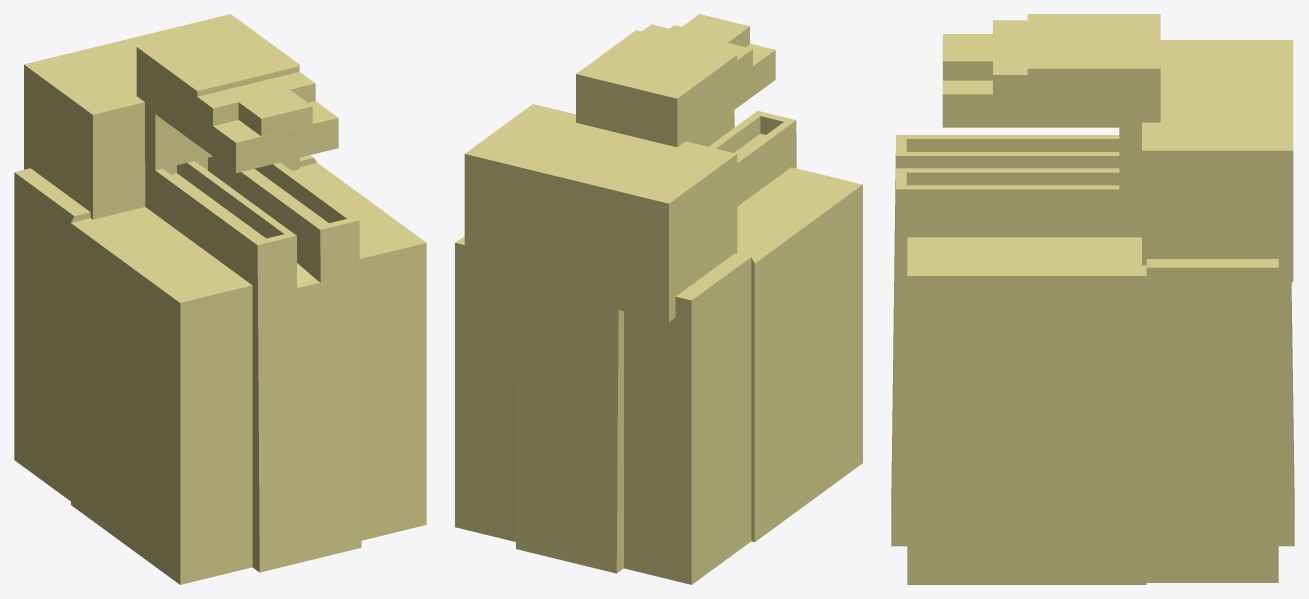
Rendered from structure1.obj.
The picture shows the model from 3 angles, left to right: view 1: azimuth 30°, elevation 25°; view 2: azimuth 150°, elevation 25°; view 3: azimuth 270°, elevation 25°; orthographic projection. The views are drawn at different scales.
Parts seen in each view (by area): view 1: structure; view 2: structure; view 3: structure.
Part boxes in pixels (x1,y1,x2,y2): structure: (14,14,426,584); structure: (455,14,862,584); structure: (891,14,1294,584).
Size of the model in its own units: 5.34 by 9.02 by 6.9.
